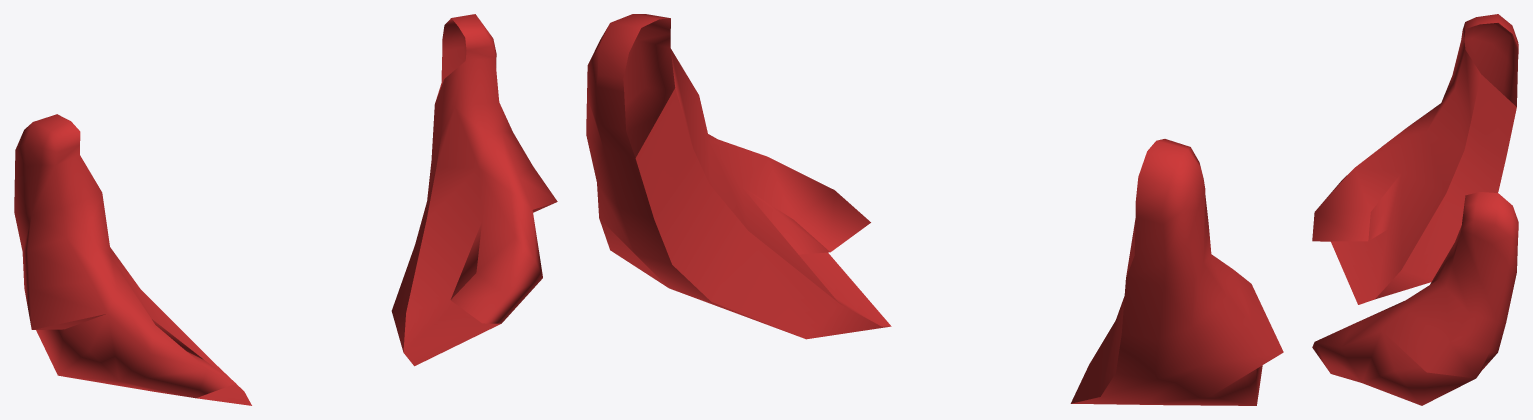
File: Beard_Red_9.fbx
3 views of the same model, side by side, from view 1: azimuth 30°, elevation 25°; view 2: azimuth 150°, elevation 25°; view 3: azimuth 270°, elevation 25° (orthographic). The views are drawn at different scales.
Visible parts, largest first — view 1: Beard_Red_9; view 2: Beard_Red_9; view 3: Beard_Red_9.
Part boxes in pixels (<box>): Beard_Red_9: <box>14,14,557,405</box>; Beard_Red_9: <box>586,14,1283,405</box>; Beard_Red_9: <box>1312,14,1518,405</box>.
Bounding box in the file's own units: 58.92 × 28.07 × 22.62.
